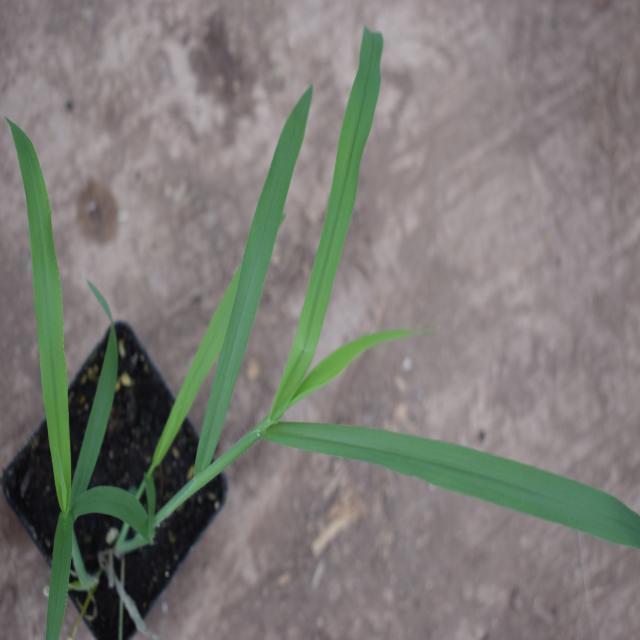crabgrass: (198, 65, 614, 568), (1, 93, 143, 629)
